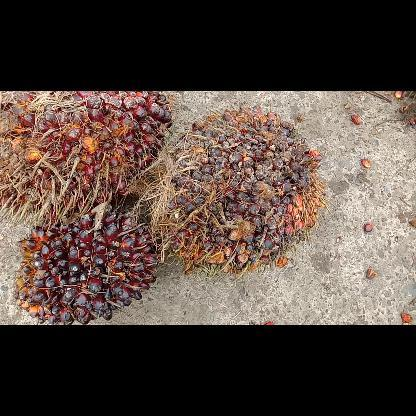Kurang masak: (161, 107, 321, 274), (16, 204, 158, 324)
TBS masak: (3, 91, 172, 216)
